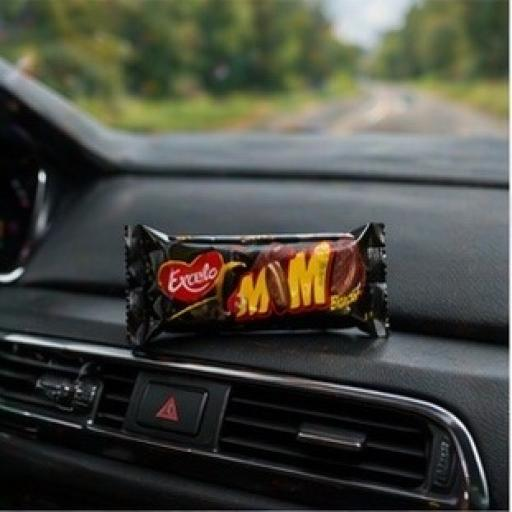MOMO: (86, 166, 467, 395)
